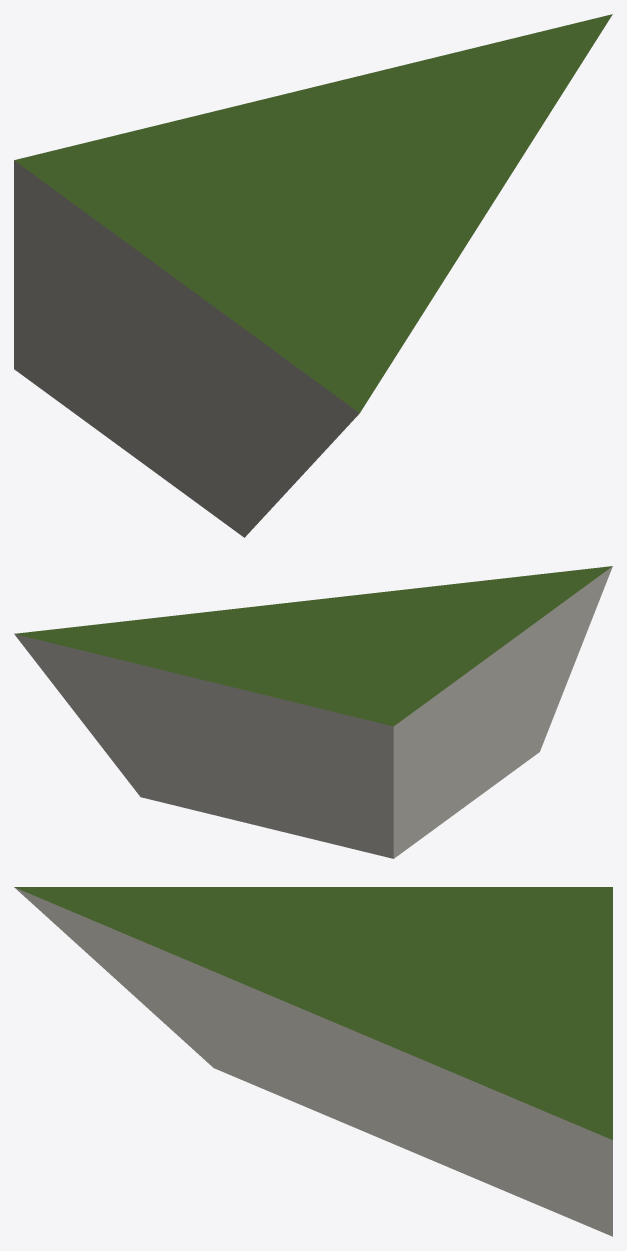
File: Terrain_Tile_Grass_Rock_Ledge_Corner_01.fbx
3 views of the same model, one above another, from view 1: azimuth 30°, elevation 25°; view 2: azimuth 150°, elevation 25°; view 3: azimuth 270°, elevation 25° (orthographic). The views are drawn at different scales.
Visible parts, largest first — view 1: Terrain_Tile_Grass_Rock_Ledge_Corner_01; view 2: Terrain_Tile_Grass_Rock_Ledge_Corner_01; view 3: Terrain_Tile_Grass_Rock_Ledge_Corner_01.
Boxes of the visible parts, x1=… form: Terrain_Tile_Grass_Rock_Ledge_Corner_01: x1=14, y1=14, x2=612, y2=537; Terrain_Tile_Grass_Rock_Ledge_Corner_01: x1=14, y1=566, x2=612, y2=858; Terrain_Tile_Grass_Rock_Ledge_Corner_01: x1=14, y1=887, x2=612, y2=1236.
Bounding box in the file's own units: 47.24 × 15.75 × 47.24.
